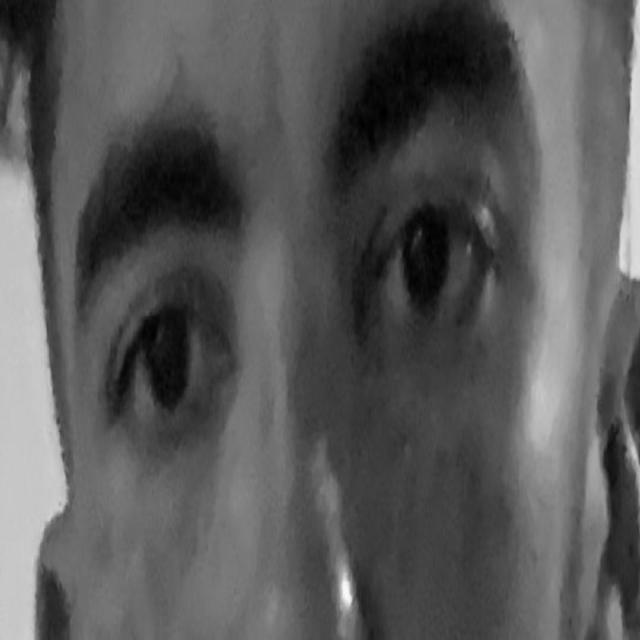real: (87, 110, 541, 508)
